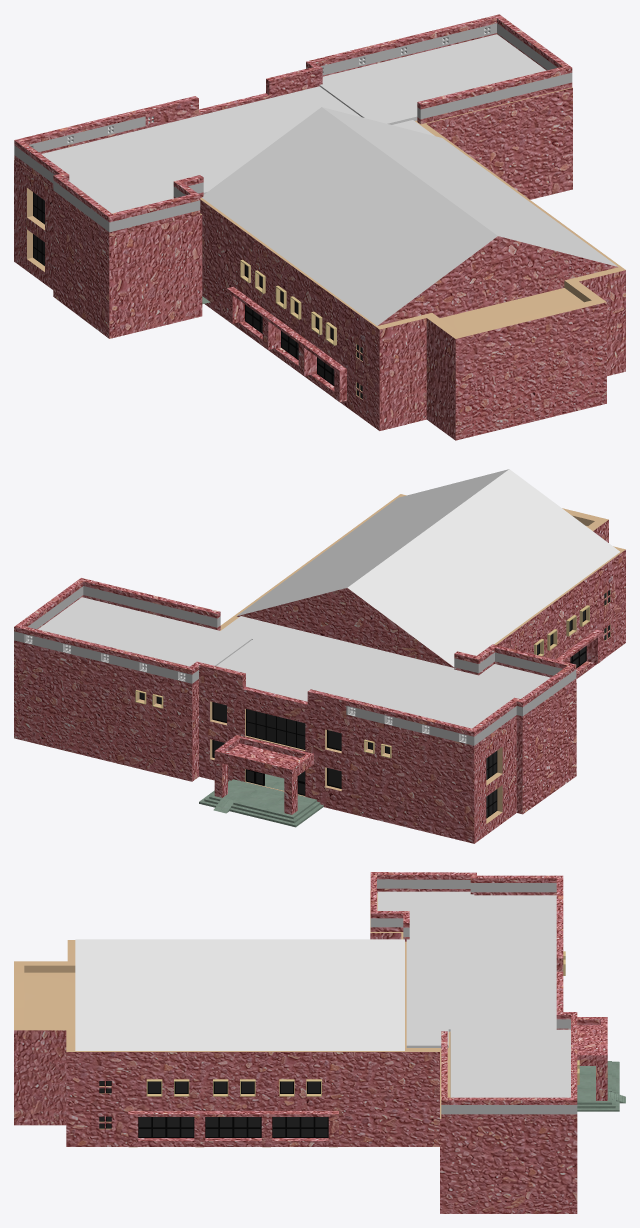
Rendered from sac.fbx.
The picture shows the model from 3 angles, top to bottom: view 1: azimuth 30°, elevation 25°; view 2: azimuth 150°, elevation 25°; view 3: azimuth 270°, elevation 25°; orthographic projection. The views are drawn at different scales.
Visible parts, largest first — view 1: building, celing0, celing2, window_shell0, window6_LOD0, window5_LOD0; view 2: building, celing0, celing2, floor1, window3_LOD0, window_shell0, window2_LOD0, window5_LOD0; view 3: building, celing0, celing2, window9_LOD0, floor1, window10_LOD0, window_shell1.
Boxes of the visible parts, x1,y1,x2,y2 form: building: [14, 14, 625, 440]; celing0: [202, 107, 618, 325]; celing2: [41, 34, 583, 332]; window_shell0: [240, 259, 336, 345]; window6_LOD0: [245, 304, 334, 385]; window5_LOD0: [33, 192, 44, 265]; building: [14, 494, 625, 843]; celing0: [236, 469, 619, 667]; celing2: [38, 526, 587, 738]; floor1: [199, 779, 323, 827]; window3_LOD0: [246, 709, 305, 749]; window_shell0: [534, 605, 589, 655]; window2_LOD0: [327, 730, 341, 788]; window5_LOD0: [486, 751, 497, 818]; building: [14, 872, 607, 1213]; celing0: [75, 939, 404, 1050]; celing2: [24, 891, 570, 1097]; window9_LOD0: [138, 1117, 328, 1137]; floor1: [577, 1061, 625, 1111]; window10_LOD0: [147, 1081, 320, 1093]; window_shell1: [146, 1079, 321, 1096].
Size of what is drawn, in the model's own units: 4243 by 1322 by 4803.
